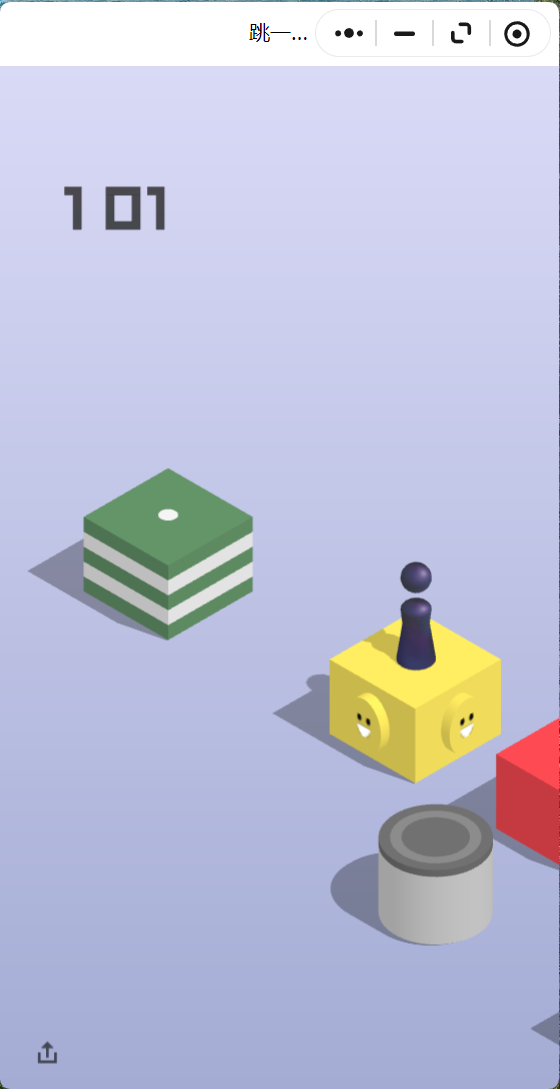piece: (401, 562, 431, 666)
target: (84, 469, 253, 563)
